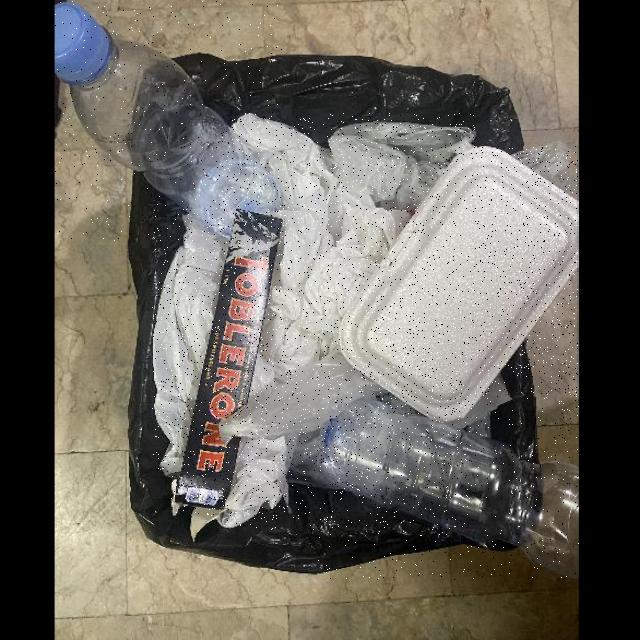paper: (171, 209, 283, 516)
plastic: (219, 116, 473, 530), (232, 113, 477, 404), (55, 1, 282, 241), (317, 397, 579, 580), (152, 226, 228, 479)
styrofoam: (340, 147, 578, 422)
